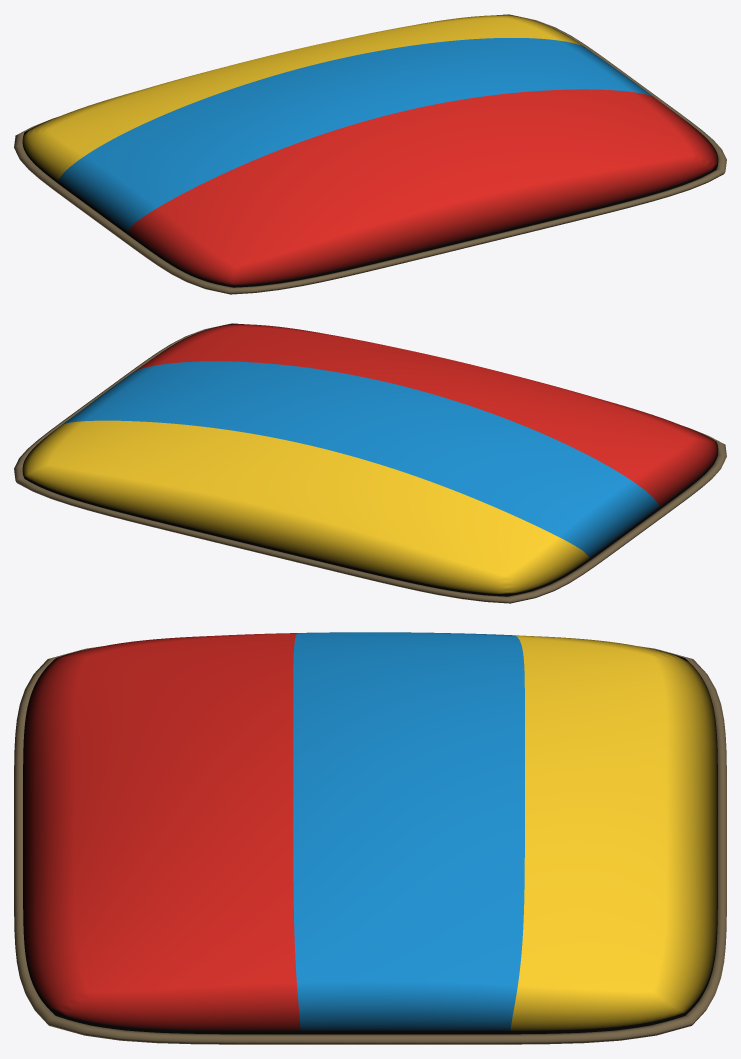
File: AustralianJumpingPillow.fbx
3 views of the same model, one above another, from view 1: azimuth 30°, elevation 25°; view 2: azimuth 150°, elevation 25°; view 3: azimuth 270°, elevation 25° (orthographic). The views are drawn at different scales.
Parts seen in each view (by area): view 1: JumpingSurface, AnchoredPerimeter; view 2: JumpingSurface, AnchoredPerimeter; view 3: JumpingSurface, AnchoredPerimeter.
Boxes of the visible parts, x1,y1,x2,y2 form: JumpingSurface: (22,14,718,287); AnchoredPerimeter: (14,14,726,294); JumpingSurface: (22,323,718,596); AnchoredPerimeter: (14,323,726,603); JumpingSurface: (23,632,717,1034); AnchoredPerimeter: (14,646,726,1044).
Bounding box in the file's own units: 12.31 × 1.41 × 9.23.
